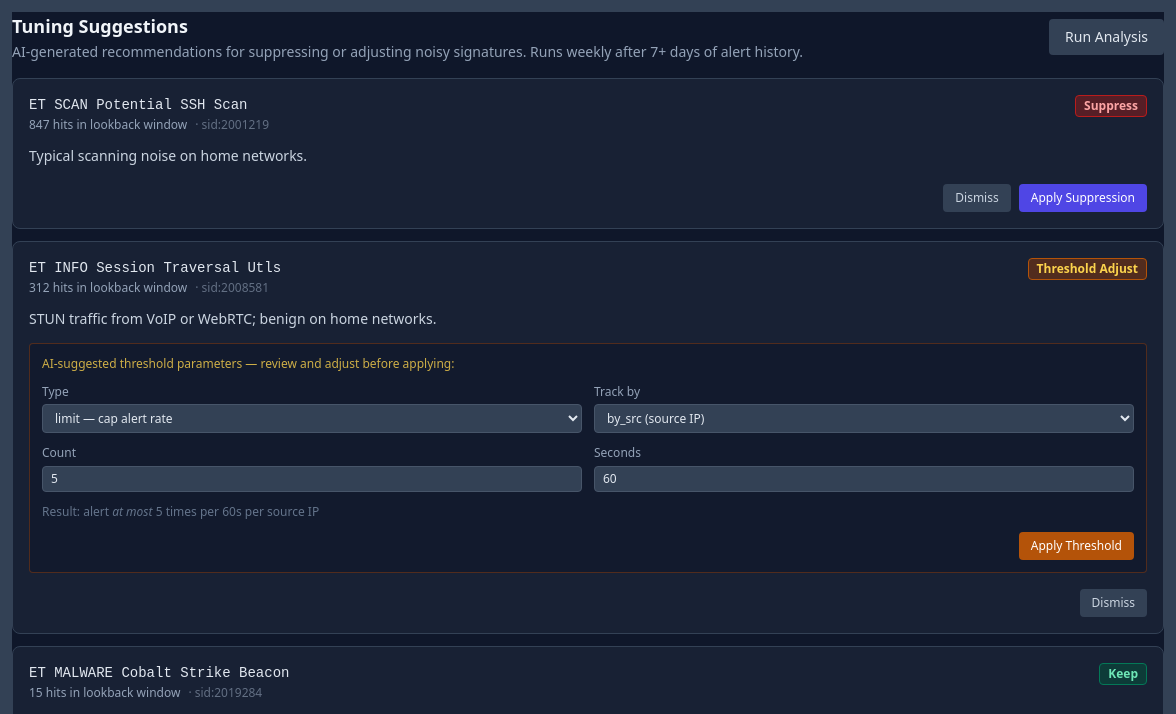
Test: TuningSuggestionsSection — Run Analysis › shows success message when run returns empty list
Click the button "Run Analysis" at (1107, 37), box [1049,19,1164,55]
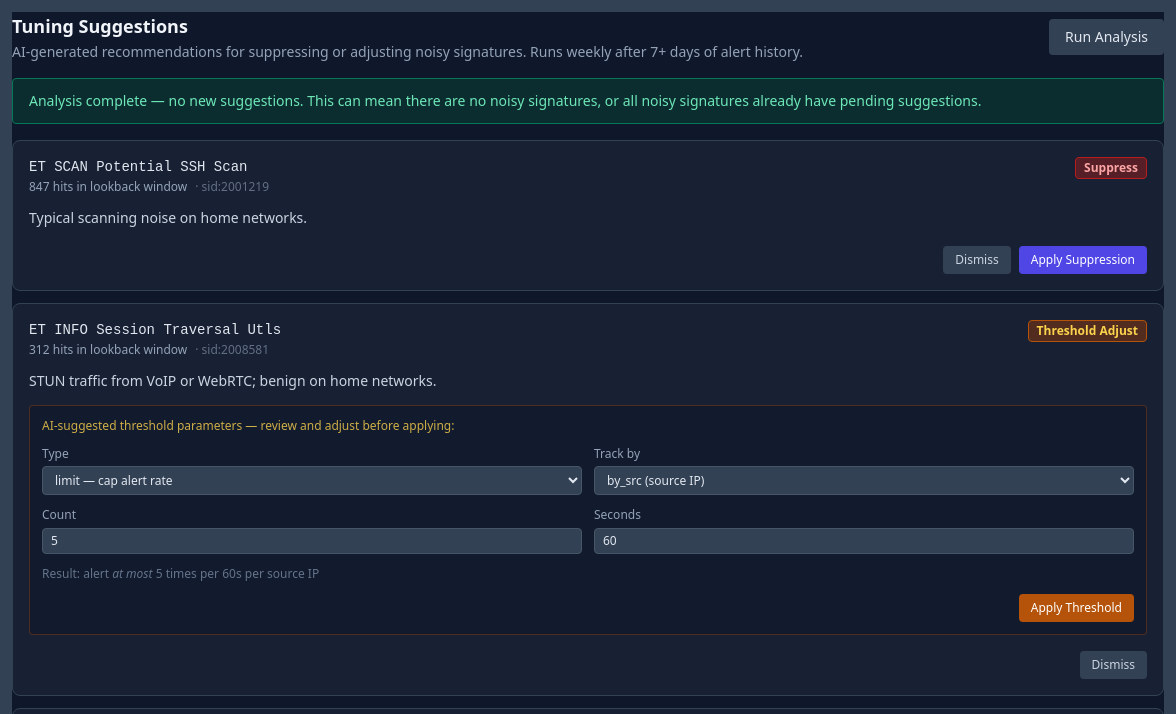
Expected: the text "Analysis complete" is shown, [29,91,982,110]
